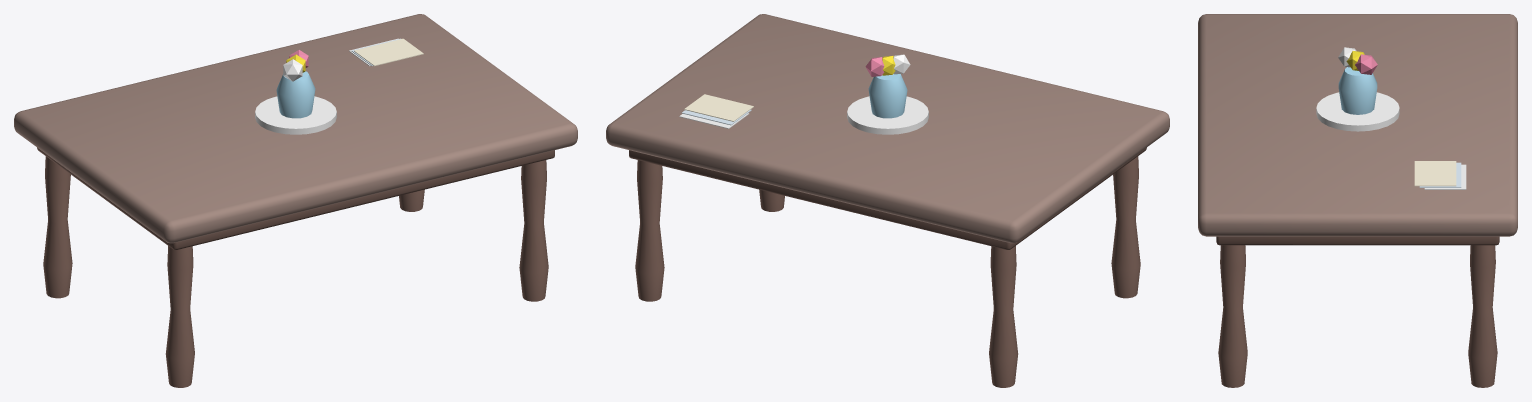
The model's file is kitchen_table.fbx.
3 views of the same model, side by side, from view 1: azimuth 30°, elevation 25°; view 2: azimuth 150°, elevation 25°; view 3: azimuth 270°, elevation 25° (orthographic).
Parts seen in each view (by area): view 1: Kitchen Table; view 2: Kitchen Table; view 3: Kitchen Table.
Part boxes in pixels (x1,y1,x2,y2): Kitchen Table: (14,14,577,387); Kitchen Table: (606,14,1169,387); Kitchen Table: (1198,14,1517,387).
Bounding box in the file's own units: 2.92 × 1.61 × 1.92.
